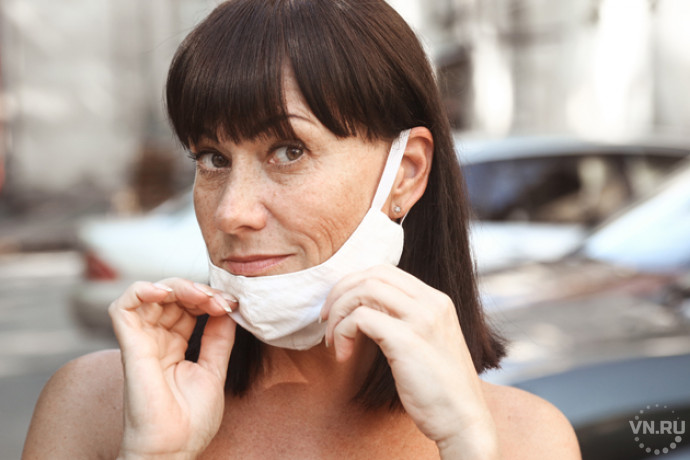with_incorrect_mask: (179, 114, 371, 355)
